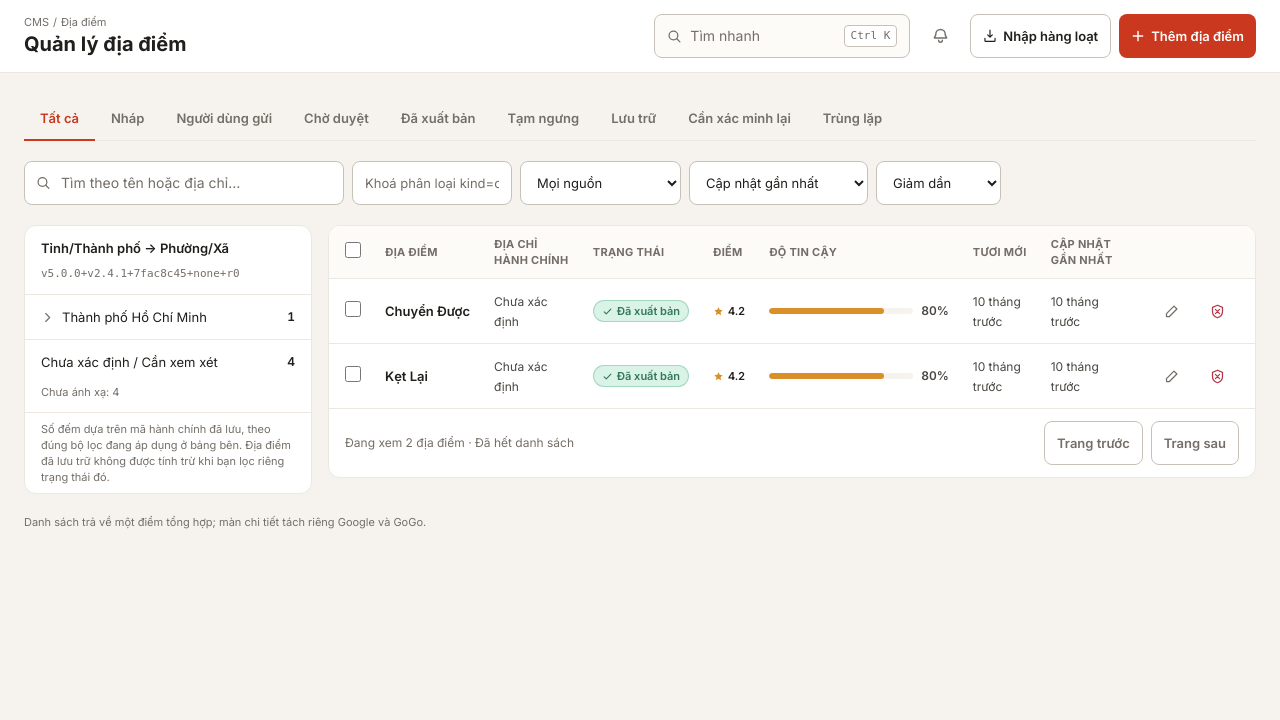
Test case: bulk place workflow › never claims success when only part of the selection moved
Click the checkbox named "Chuyển Được" at coordinates (353, 308), box [345,300,361,316]
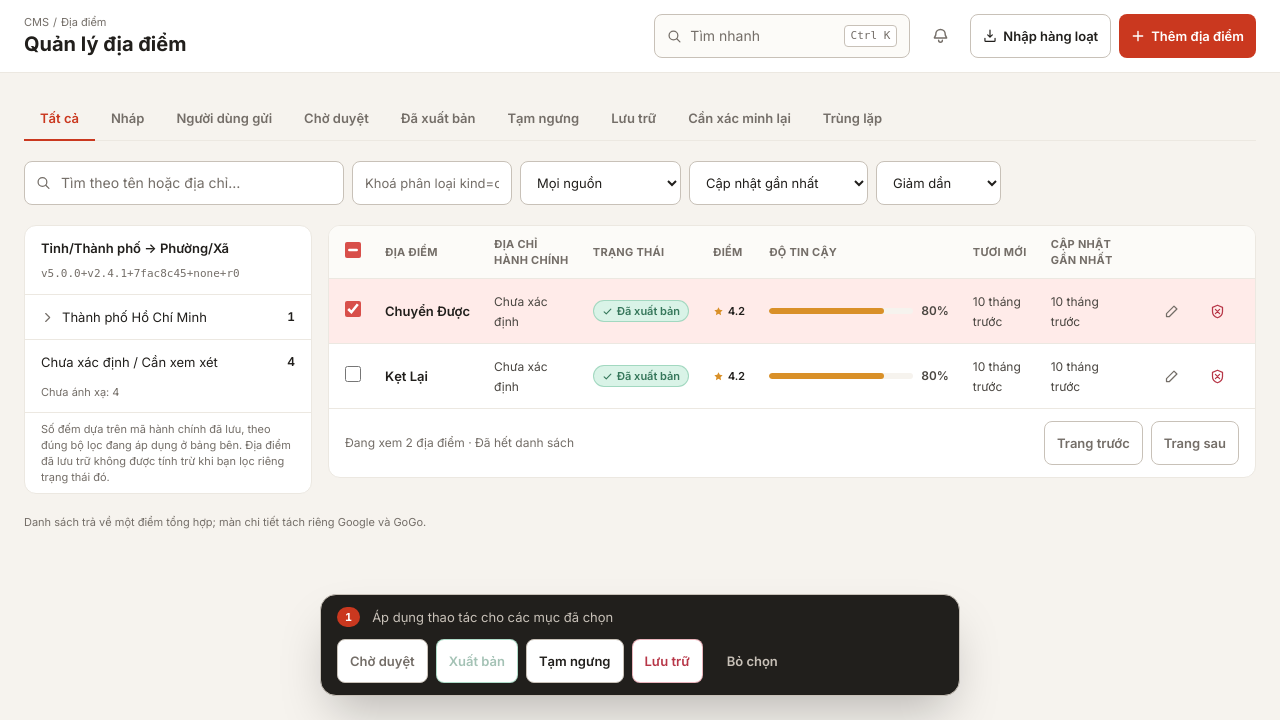
Click the checkbox named "Kẹt Lại" at coordinates (353, 374), box [345,366,361,382]
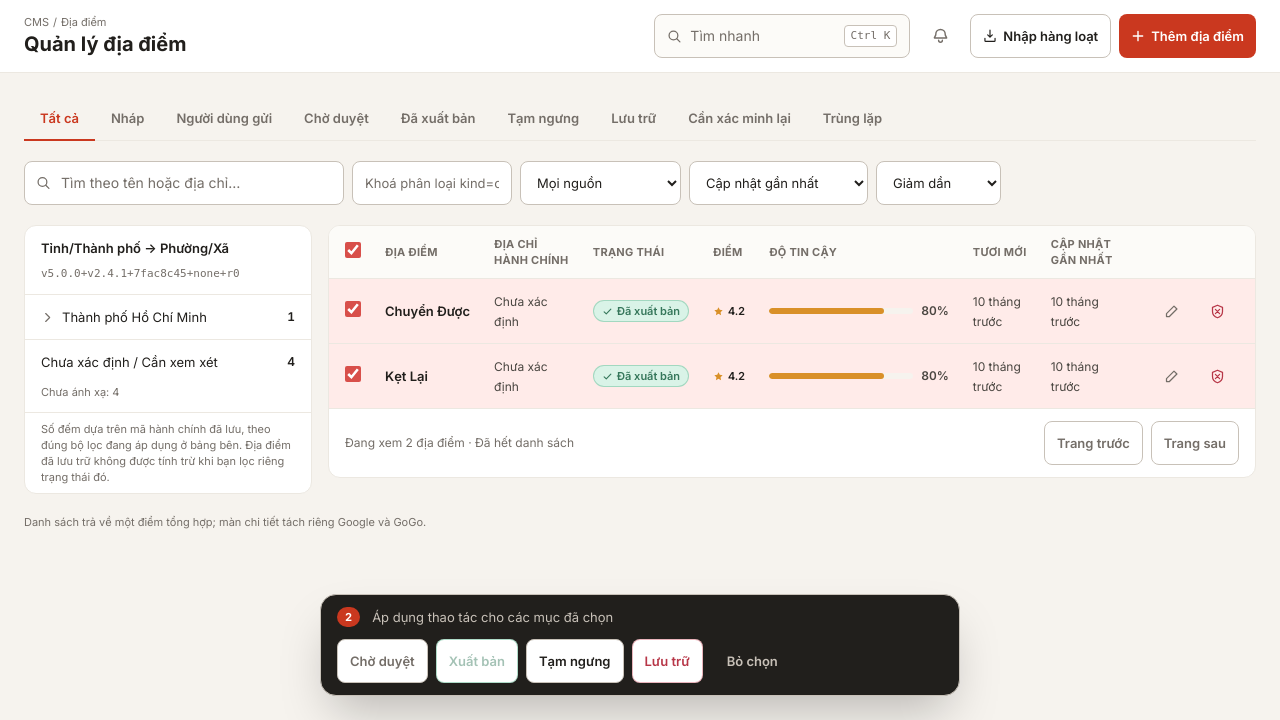
Click the button "Lưu trữ" at coordinates (667, 661), box [632,639,703,683]
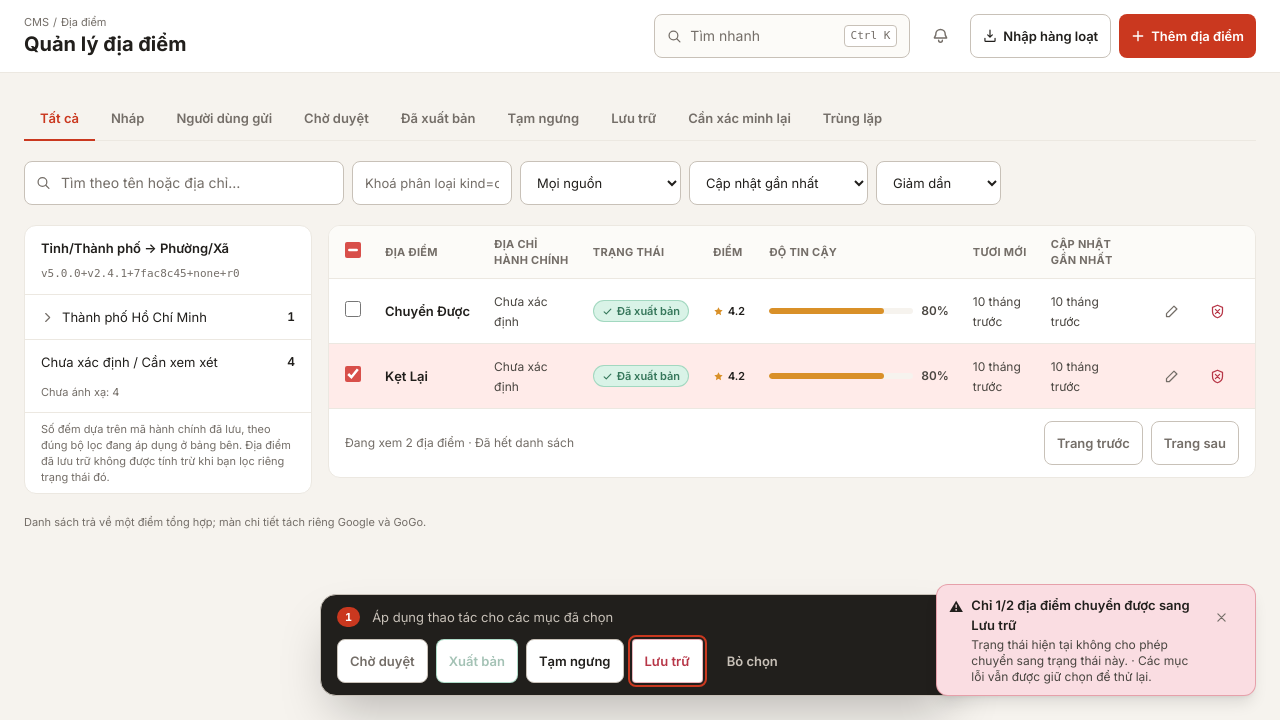
expect the checkbox named "Kẹt Lại" is checked: met, box [345,366,361,382]
expect the text "Chỉ 1/2 địa điểm chuyển được sang Lưu trữ" is shown: met, box [971,595,1191,635]
expect the checkbox named "Chuyển Được" is not checked: met, box [345,300,361,316]
